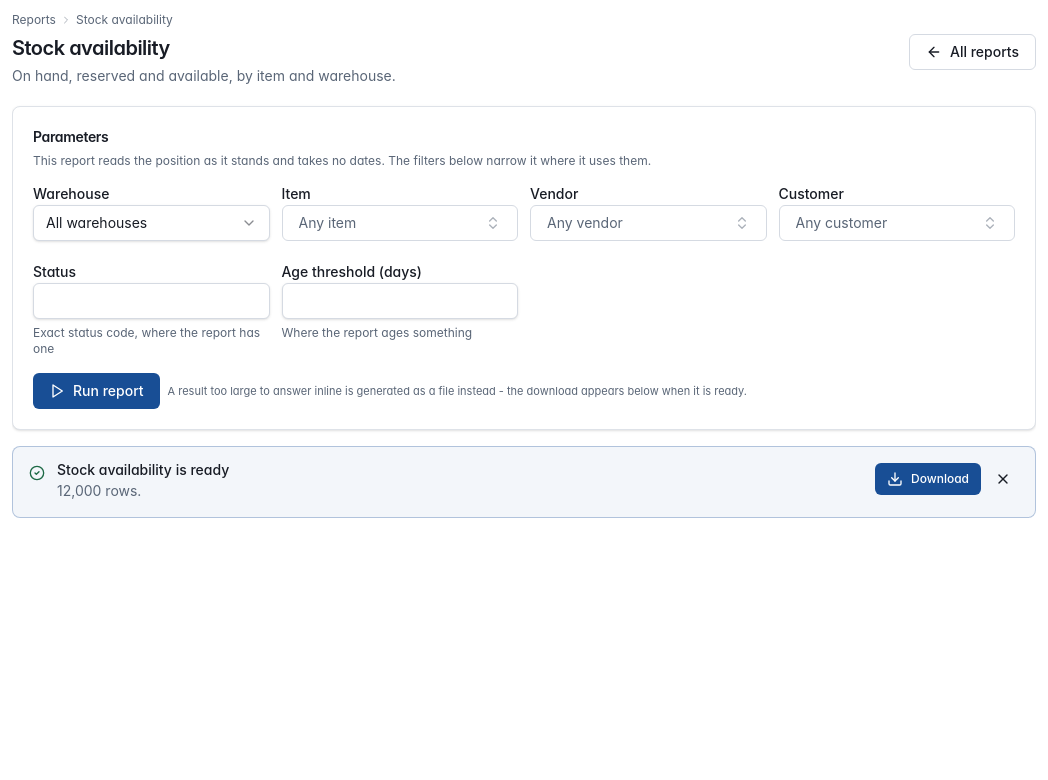
Test: running the same report twice › brings a dismissed download back on the next run instead of a blank screen
This screenshot has width=1048, height=780.
expect the heading "Stock availability is ready" is shown: met, box [57, 461, 229, 478]
Step 1. Click the button named "Dismiss" → [1003, 479], box [987, 463, 1019, 495]
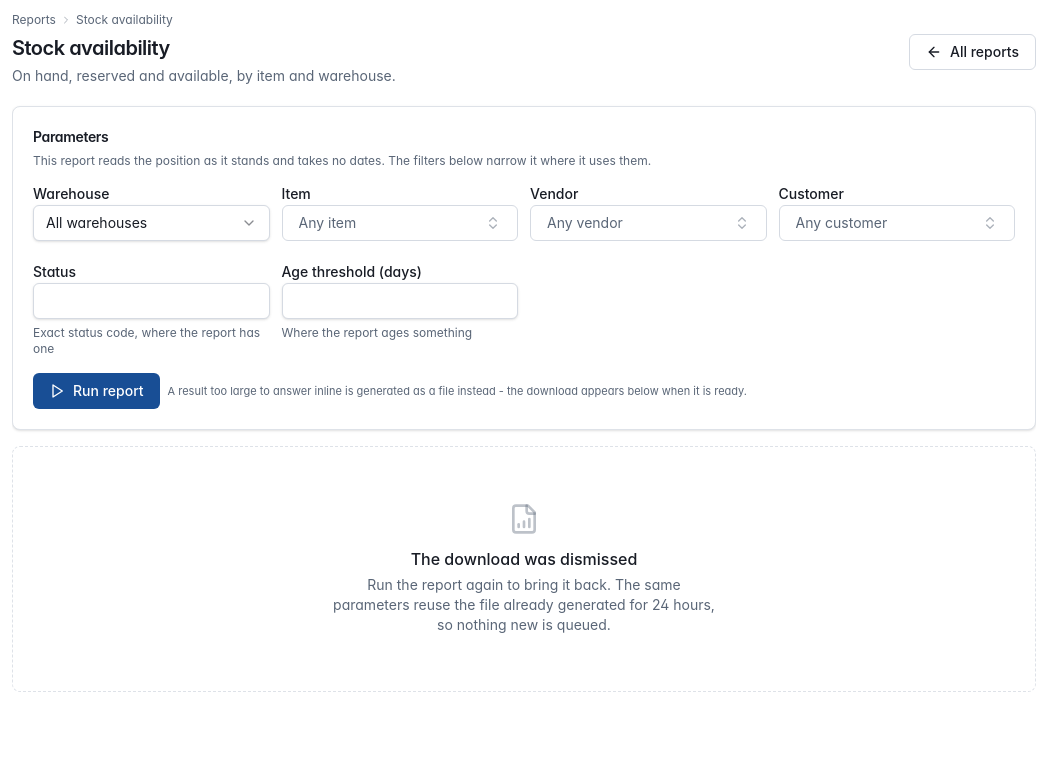
expect the text "The download was dismissed" is shown: met, box [411, 549, 637, 569]
expect the heading "Stock availability is ready" is gone: met
Step 2. Click the button "Run report" → [96, 391], box [33, 373, 160, 409]
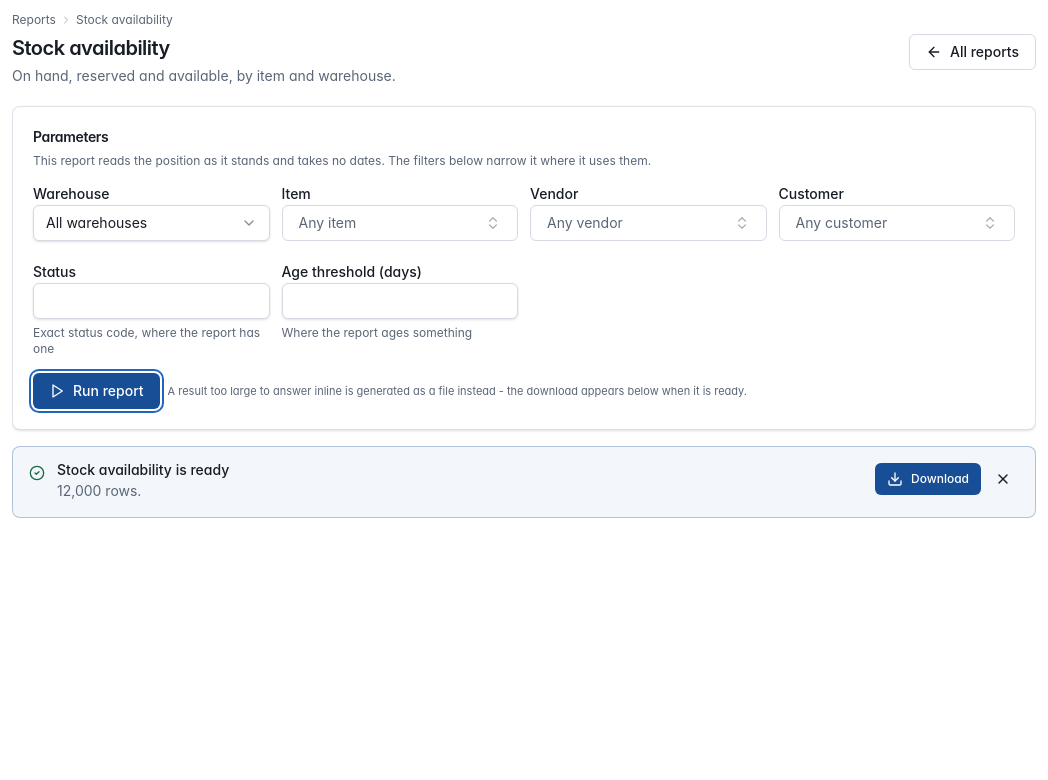
expect the heading "Stock availability is ready" is shown: met, box [57, 461, 229, 478]
expect the text "The download was dismissed" is gone: met
